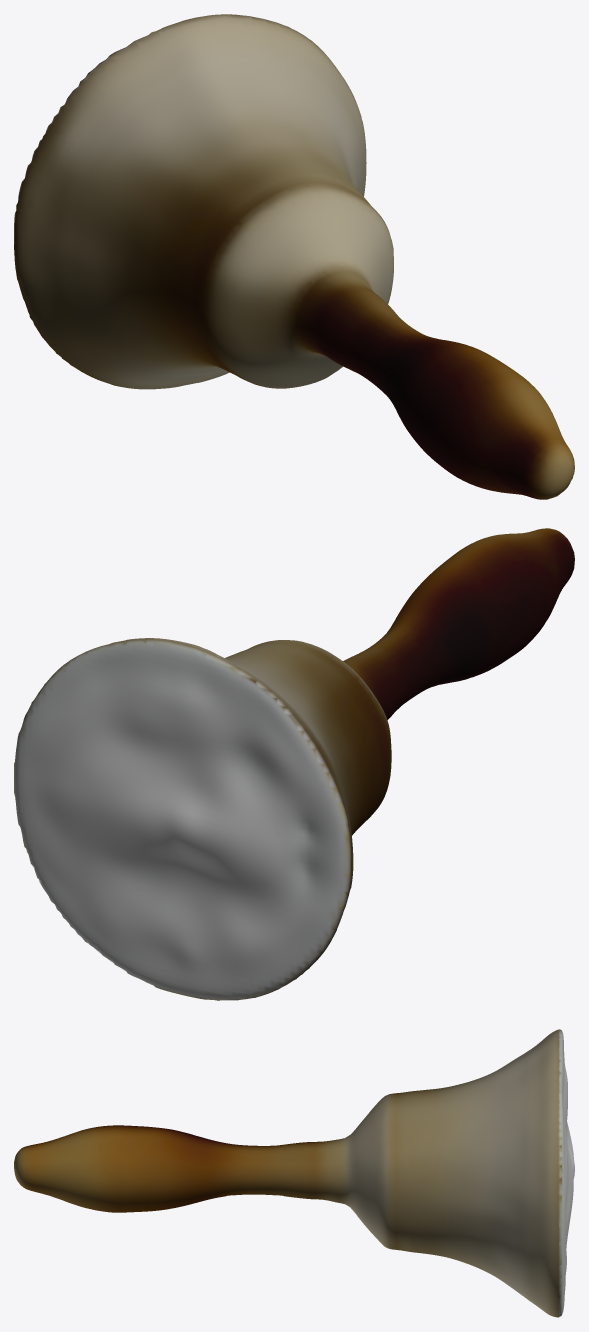
File: bell.glb
3 views of the same model, one above another, from view 1: azimuth 30°, elevation 25°; view 2: azimuth 150°, elevation 25°; view 3: azimuth 270°, elevation 25° (orthographic). The views are drawn at different scales.
Size of the model in its own units: 0.5149 by 0.5109 by 0.9994.
